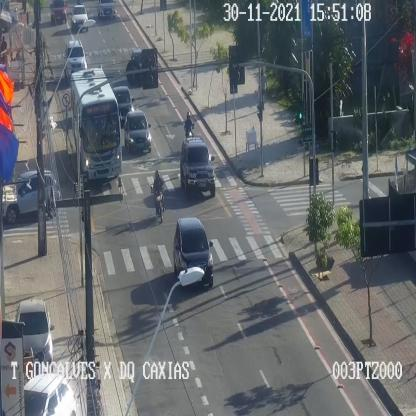bus: (70, 68, 122, 179)
car: (2, 169, 60, 224), (173, 216, 213, 286), (16, 300, 52, 371), (23, 374, 76, 416), (180, 137, 215, 196), (124, 110, 151, 152), (64, 40, 87, 77), (112, 86, 134, 122), (48, 0, 70, 28), (95, 0, 119, 22), (130, 50, 149, 77), (70, 5, 88, 30)
motorbike: (151, 170, 165, 221), (184, 112, 194, 138)
person: (258, 68, 268, 109)
